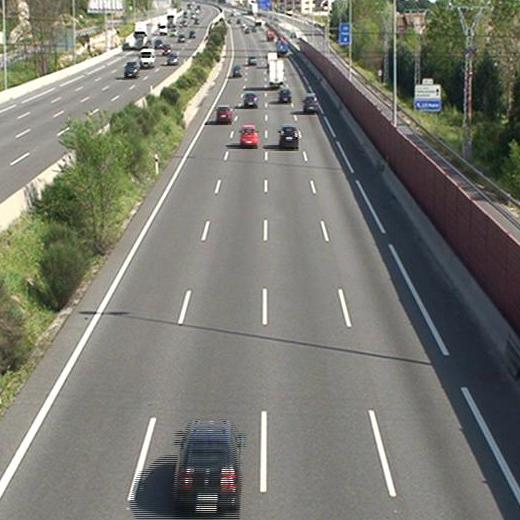car: (174, 425, 242, 511), (279, 126, 300, 148), (240, 125, 258, 147), (216, 105, 232, 123), (303, 94, 317, 111), (243, 93, 257, 108), (279, 89, 292, 103), (232, 66, 242, 77), (247, 57, 255, 65)
small-truck: (268, 59, 284, 87)
